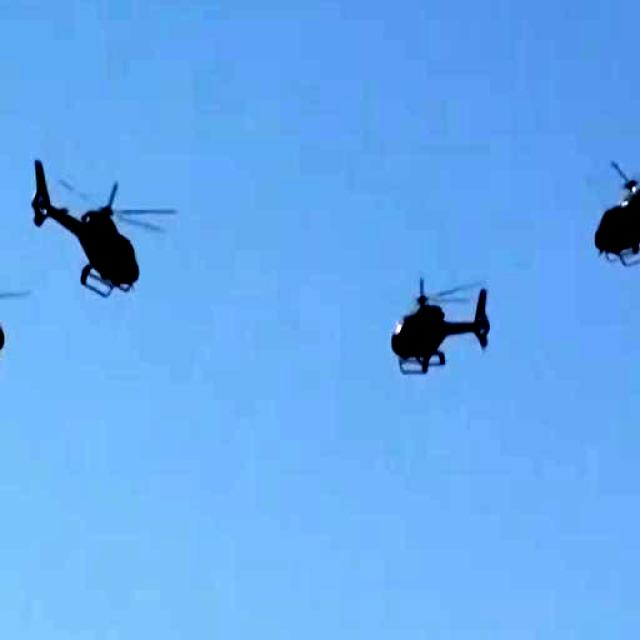drone: (28, 138, 172, 316), (384, 274, 495, 382), (589, 140, 640, 272), (0, 270, 24, 380)
